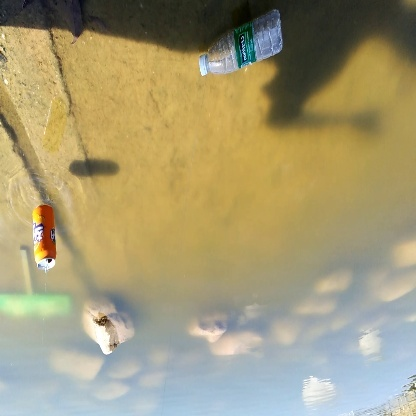bottle: (191, 8, 285, 79), (27, 204, 61, 274)
